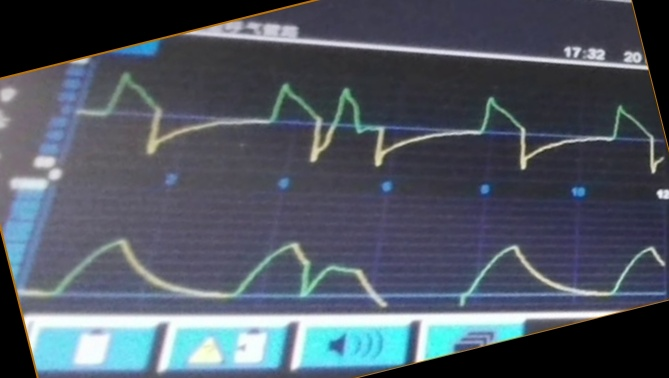Double_Triggering Flow: (92, 73, 648, 172)
Double_Triggering Volume: (48, 231, 655, 304)
